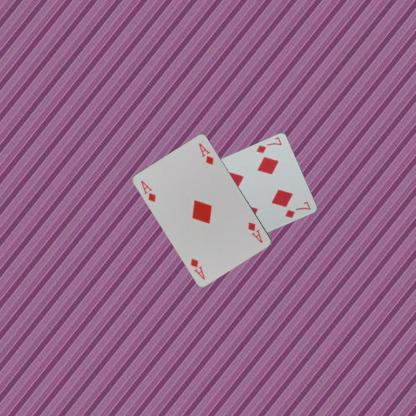7d: (254, 134, 283, 154)
Ad: (139, 178, 157, 204), (246, 220, 264, 244)
